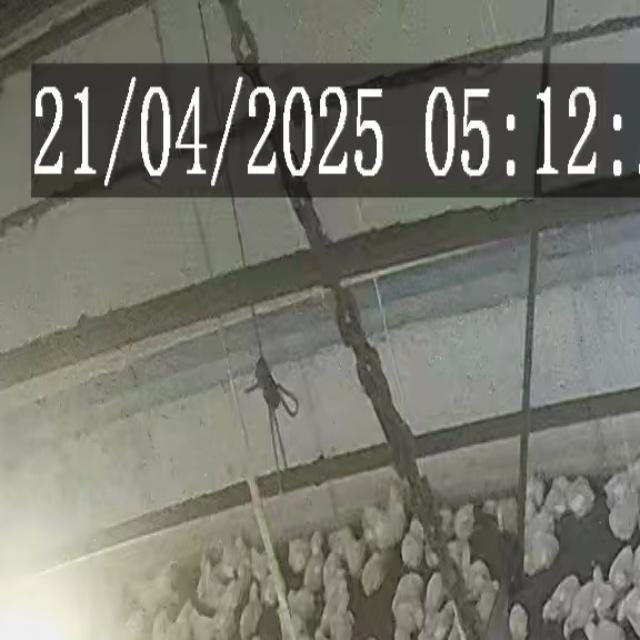chicken: (236, 580, 264, 640), (566, 474, 598, 521), (360, 551, 388, 597)
